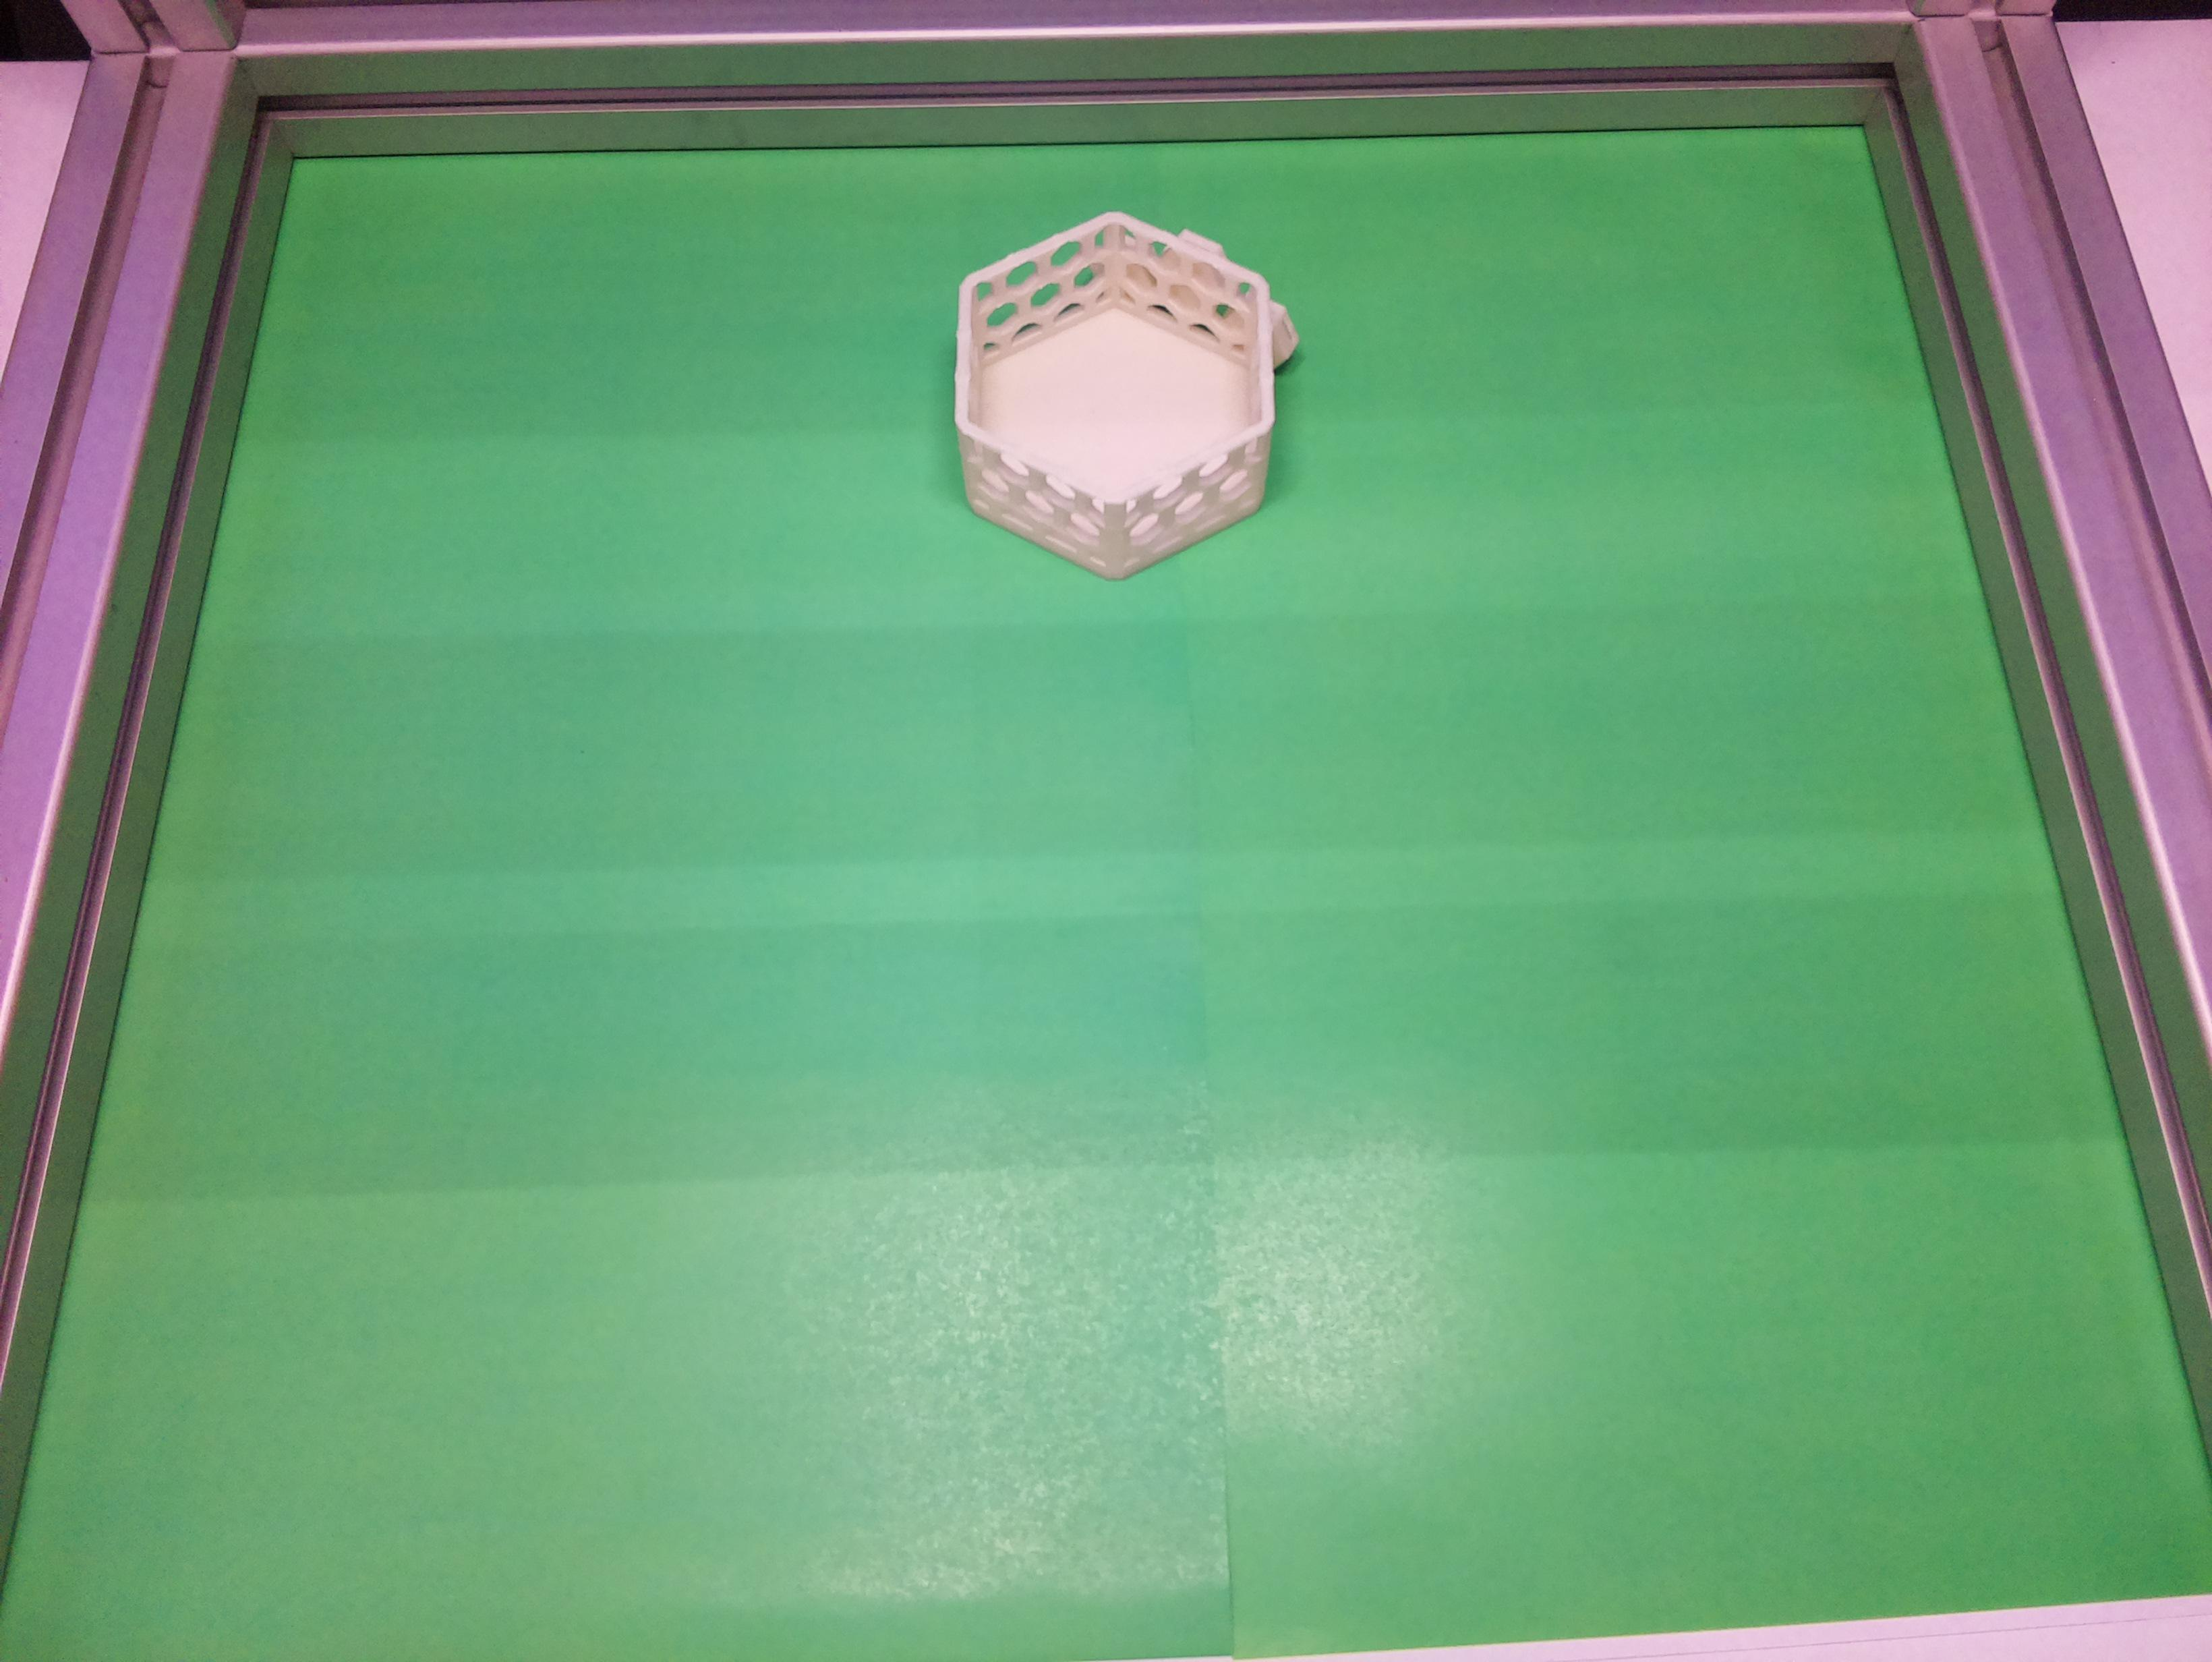bottle_holder: (904, 182, 1318, 608)
